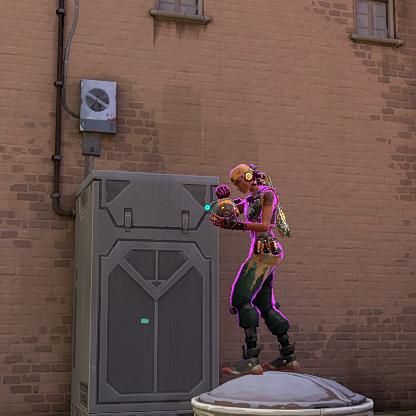enemyBody: (237, 191, 290, 268)
enemyHead: (233, 168, 255, 188)
